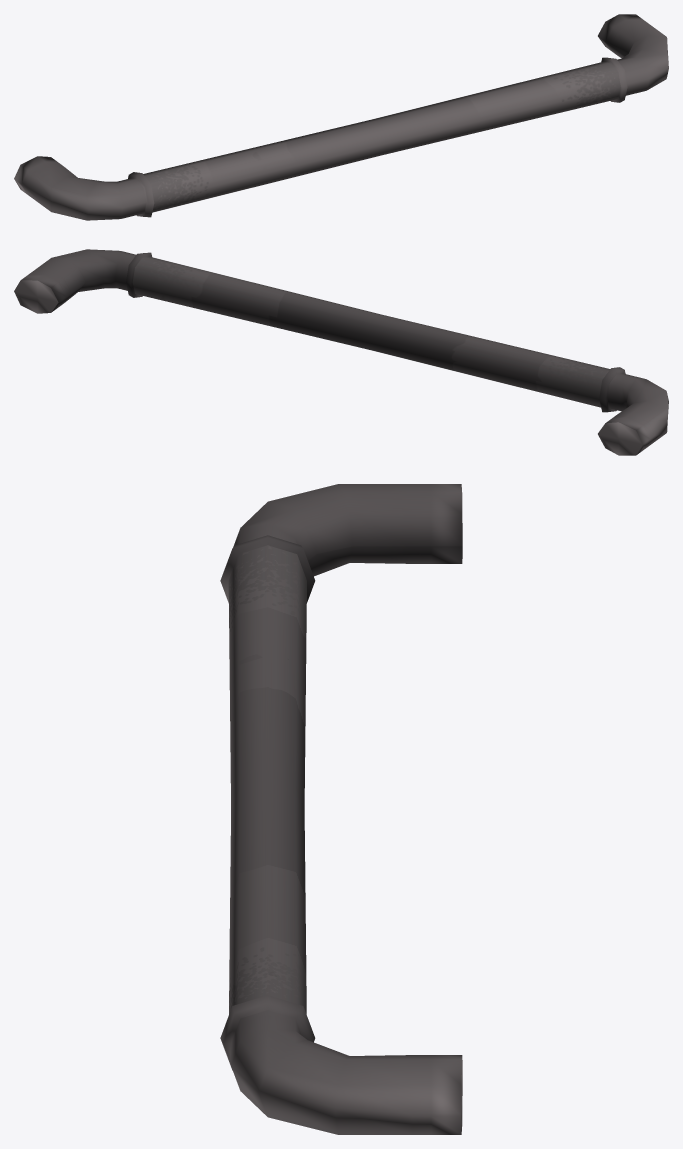
Rendered from BannerBar.fbx.
The picture shows the model from 3 angles, top to bottom: view 1: azimuth 30°, elevation 25°; view 2: azimuth 150°, elevation 25°; view 3: azimuth 270°, elevation 25°; orthographic projection. The views are drawn at different scales.
Parts seen in each view (by area): view 1: BannerBar; view 2: BannerBar; view 3: BannerBar.
Boxes of the visible parts, box(x1,y1,x2,y2) form: BannerBar: box(14, 14, 668, 220); BannerBar: box(14, 249, 668, 455); BannerBar: box(220, 484, 462, 1134).
Size of the model in its own units: 1835 by 120 by 306.
Materials: 1 (1 with a texture image).
